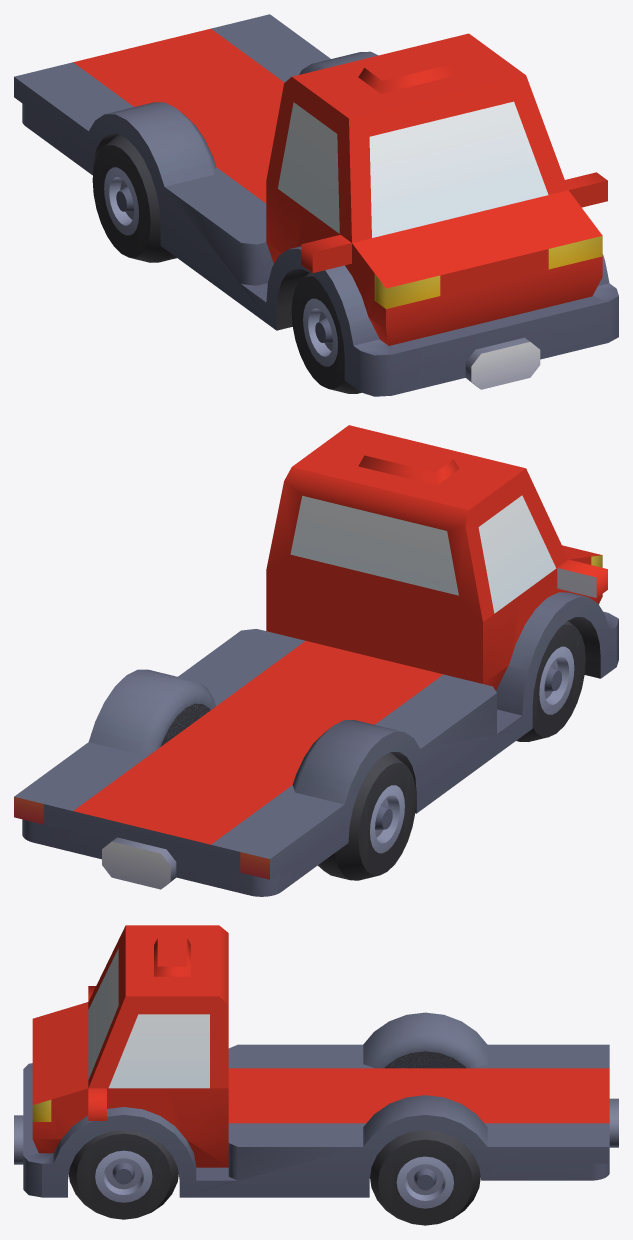
Rendered from delivery-flat2.glb.
3 views of the same model, one above another, from view 1: azimuth 30°, elevation 25°; view 2: azimuth 150°, elevation 25°; view 3: azimuth 270°, elevation 25° (orthographic). The views are drawn at different scales.
Visible parts, largest first — view 1: body, body.001, wheel-back-right, wheel-front-right; view 2: body, body.001, wheel-back-right, wheel-front-right; view 3: body, body.001, wheel-back-left, wheel-front-left.
Part boxes in pixels (<box>): body: <box>14,14,618,396</box>; body.001: <box>73,28,607,345</box>; wheel-back-right: <box>92,134,176,262</box>; wheel-front-right: <box>291,272,361,393</box>; body: <box>14,495,618,896</box>; body.001: <box>73,425,607,844</box>; wheel-back-right: <box>318,752,416,880</box>; wheel-front-right: <box>516,621,585,741</box>; body: <box>14,948,618,1197</box>; body.001: <box>32,925,609,1167</box>; wheel-back-left: <box>370,1130,480,1225</box>; wheel-front-left: <box>69,1130,178,1219</box>.
Size of the model in its own units: 1.5 by 1.35 by 3.25.
Materials: 2 (1 with a texture image).
